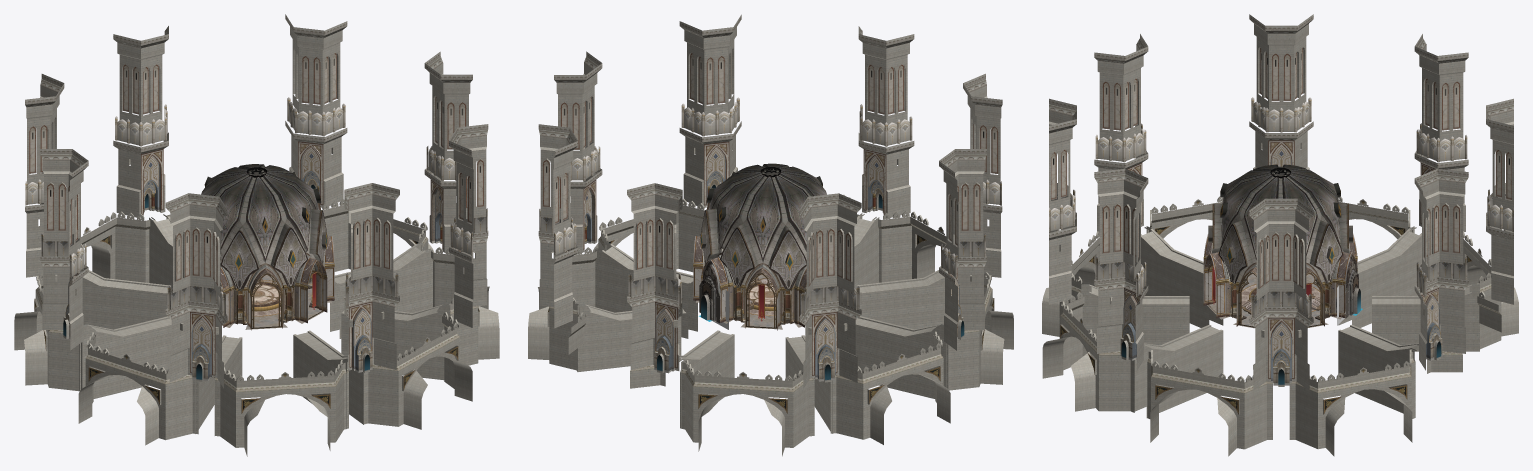
Rendered from ChronicleTower_High-Water-Light.fbx.
3 views of the same model, side by side, from view 1: azimuth 30°, elevation 25°; view 2: azimuth 150°, elevation 25°; view 3: azimuth 270°, elevation 25° (orthographic).
Parts seen in each view (by area): view 1: Chronicle01_M03A, Chronicle01_M03D, Chronicle01_M03E, Chronicle01_M03C, Chronicle01_M03B, Chronicle01_M01F, Chronicle01_M01A, Chronicle01_M01B, Chronicle01_M01E, Chronicle01_M02A, Chronicle01_M01G; view 2: Chronicle01_M03D, Chronicle01_M03C, Chronicle01_M03A, Chronicle01_M03E, Chronicle01_M01F, Chronicle01_M03B, Chronicle01_M01C, Chronicle01_M01D, Chronicle01_M01E, Chronicle01_M02A; view 3: Chronicle01_M03C, Chronicle01_M03B, Chronicle01_M03D, Chronicle01_M03A, Chronicle01_M03E, Chronicle01_M01F, Chronicle01_M01D, Chronicle01_M01A, Chronicle01_M01G, Chronicle01_M01E.
Boxes of the visible parts, x1=… form: Chronicle01_M03A: x1=165, y1=183, x2=399, y2=456; Chronicle01_M03D: x1=25, y1=26, x2=172, y2=329; Chronicle01_M03E: x1=14, y1=149, x2=198, y2=445; Chronicle01_M03C: x1=285, y1=14, x2=472, y2=338; Chronicle01_M03B: x1=341, y1=124, x2=499, y2=429; Chronicle01_M01F: x1=201, y1=164, x2=333, y2=289; Chronicle01_M01A: x1=251, y1=260, x2=327, y2=328; Chronicle01_M01B: x1=220, y1=275, x2=255, y2=330; Chronicle01_M01E: x1=222, y1=274, x2=331, y2=329; Chronicle01_M02A: x1=252, y1=280, x2=280, y2=311; Chronicle01_M01G: x1=308, y1=252, x2=334, y2=300; Chronicle01_M03D: x1=627, y1=183, x2=861, y2=456; Chronicle01_M03C: x1=528, y1=51, x2=697, y2=371; Chronicle01_M03A: x1=854, y1=26, x2=1002, y2=329; Chronicle01_M03E: x1=830, y1=149, x2=1013, y2=444; Chronicle01_M01F: x1=694, y1=163, x2=826, y2=288; Chronicle01_M03B: x1=592, y1=14, x2=858, y2=272; Chronicle01_M01C: x1=738, y1=270, x2=806, y2=330; Chronicle01_M01D: x1=699, y1=258, x2=748, y2=323; Chronicle01_M01E: x1=696, y1=274, x2=802, y2=329; Chronicle01_M02A: x1=747, y1=279, x2=775, y2=310; Chronicle01_M03C: x1=1249, y1=168, x2=1468, y2=456; Chronicle01_M03B: x1=1042, y1=168, x2=1272, y2=456; Chronicle01_M03D: x1=1338, y1=34, x2=1518, y2=351; Chronicle01_M03A: x1=1042, y1=34, x2=1223, y2=359; Chronicle01_M03E: x1=1147, y1=14, x2=1412, y2=239; Chronicle01_M01F: x1=1205, y1=164, x2=1355, y2=283; Chronicle01_M01D: x1=1315, y1=253, x2=1362, y2=319; Chronicle01_M01A: x1=1203, y1=245, x2=1246, y2=319; Chronicle01_M01G: x1=1233, y1=269, x2=1328, y2=327; Chronicle01_M01E: x1=1207, y1=272, x2=1350, y2=328.
Bounding box in the file's own units: 309 × 174 × 309.
Materials: 11 (11 with a texture image).
